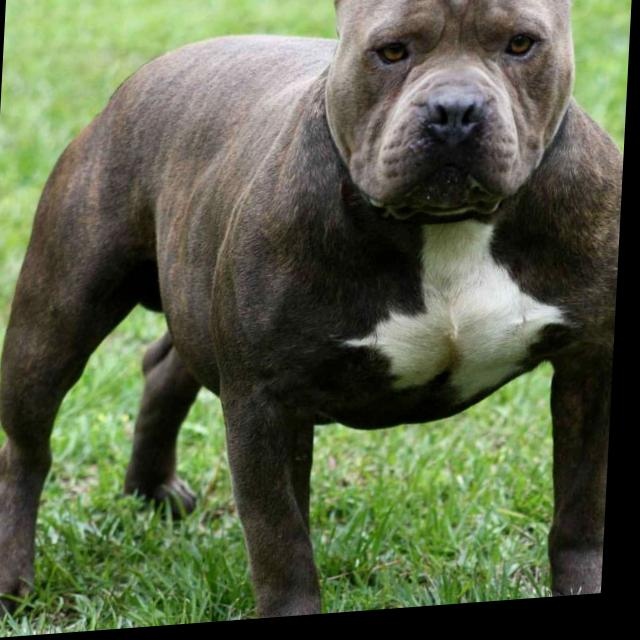am_pit_bull_terrier: (1, 1, 635, 640)
